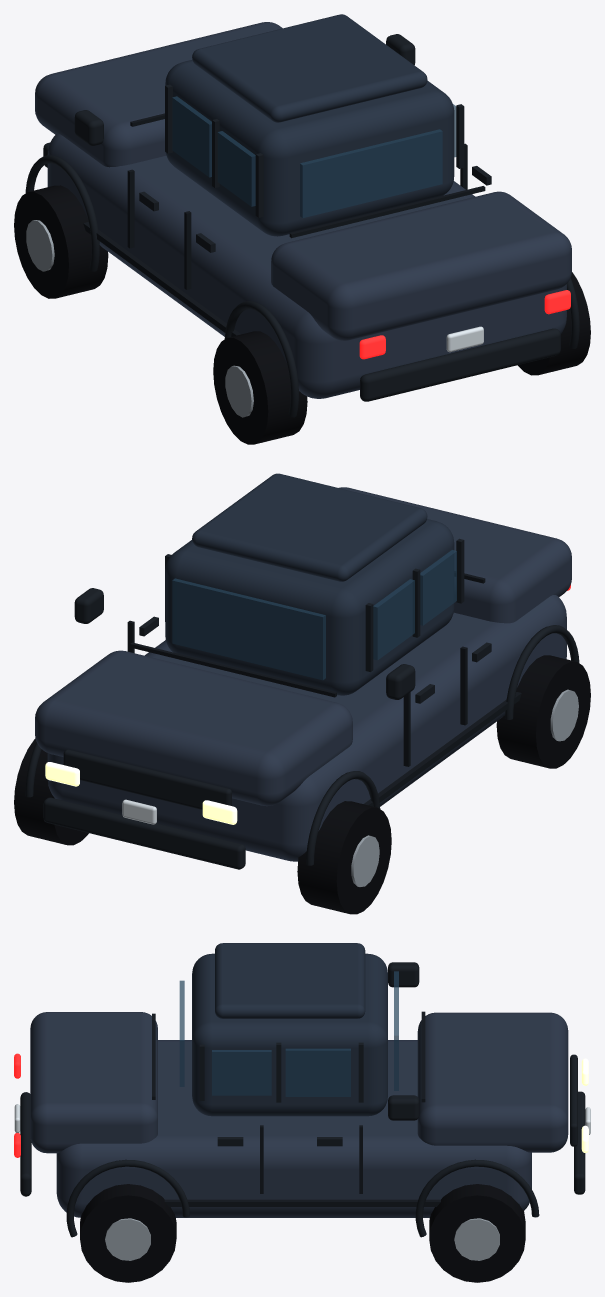
The model's file is passenger_car_medium.glb.
The picture shows the model from 3 angles, top to bottom: view 1: azimuth 30°, elevation 25°; view 2: azimuth 150°, elevation 25°; view 3: azimuth 270°, elevation 25°; orthographic projection. The views are drawn at different scales.
Parts seen in each view (by area): view 1: passenger_car_medium_rounded_sedan_lower_body_panel, passenger_car_medium_rounded_passenger_cabin_body_panel, passenger_car_medium_rear_trunk_deck_body_panel_with_soft_be, passenger_car_medium_subtle_roof_panel_bevel, passenger_car_medium_front_hood_body_panel_with_soft_bevel, passenger_car_medium_rear_window_glass, passenger_car_medium_rear_left_wheel_tire, passenger_car_medium_front_left_wheel_tire, passenger_car_medium_rear_bumper_dark_trim, passenger_car_medium_left_front_door_window_glass, passenger_car_medium_left_rear_door_window_glass, passenger_car_medium_rear_right_wheel_tire (+12 smaller); view 2: passenger_car_medium_rounded_passenger_cabin_body_panel, passenger_car_medium_front_hood_body_panel_with_soft_bevel, passenger_car_medium_rounded_sedan_lower_body_panel, passenger_car_medium_subtle_roof_panel_bevel, passenger_car_medium_front_windshield_glass, passenger_car_medium_rear_trunk_deck_body_panel_with_soft_be, passenger_car_medium_front_left_wheel_tire, passenger_car_medium_rear_left_wheel_tire, passenger_car_medium_front_lower_air_intake_body_panel_break, passenger_car_medium_front_grille_dark_trim, passenger_car_medium_front_right_wheel_tire, passenger_car_medium_left_front_door_window_glass (+16 smaller); view 3: passenger_car_medium_rounded_sedan_lower_body_panel, passenger_car_medium_rounded_passenger_cabin_body_panel, passenger_car_medium_front_hood_body_panel_with_soft_bevel, passenger_car_medium_rear_trunk_deck_body_panel_with_soft_be, passenger_car_medium_subtle_roof_panel_bevel, passenger_car_medium_front_right_wheel_tire, passenger_car_medium_rear_right_wheel_tire, passenger_car_medium_right_front_door_window_glass, passenger_car_medium_right_rear_door_window_glass, passenger_car_medium_right_lower_rocker_body_panel_break, passenger_car_medium_rear_right_wheel_outer_hub, passenger_car_medium_front_right_wheel_outer_hub (+10 smaller).
Part boxes in pixels (<box>): passenger_car_medium_rounded_sedan_lower_body_panel: <box>47,133,566,398</box>; passenger_car_medium_rounded_passenger_cabin_body_panel: <box>165,60,454,236</box>; passenger_car_medium_rear_trunk_deck_body_panel_with_soft_be: <box>271,191,571,340</box>; passenger_car_medium_subtle_roof_panel_bevel: <box>192,14,427,122</box>; passenger_car_medium_front_hood_body_panel_with_soft_bevel: <box>35,22,282,167</box>; passenger_car_medium_rear_window_glass: <box>300,129,442,217</box>; passenger_car_medium_rear_left_wheel_tire: <box>213,331,307,444</box>; passenger_car_medium_front_left_wheel_tire: <box>14,185,108,298</box>; passenger_car_medium_rear_bumper_dark_trim: <box>360,328,560,401</box>; passenger_car_medium_left_front_door_window_glass: <box>172,96,211,177</box>; passenger_car_medium_left_rear_door_window_glass: <box>217,131,255,206</box>; passenger_car_medium_rear_right_wheel_tire: <box>518,272,590,375</box>; passenger_car_medium_rounded_passenger_cabin_body_panel: <box>165,519,454,695</box>; passenger_car_medium_front_hood_body_panel_with_soft_bevel: <box>35,650,352,806</box>; passenger_car_medium_rounded_sedan_lower_body_panel: <box>47,595,566,861</box>; passenger_car_medium_subtle_roof_panel_bevel: <box>192,473,427,581</box>; passenger_car_medium_front_windshield_glass: <box>172,578,325,680</box>; passenger_car_medium_rear_trunk_deck_body_panel_with_soft_be: <box>339,487,571,623</box>; passenger_car_medium_front_left_wheel_tire: <box>297,801,391,914</box>; passenger_car_medium_rear_left_wheel_tire: <box>496,655,590,768</box>; passenger_car_medium_front_lower_air_intake_body_panel_break: <box>43,797,245,869</box>; passenger_car_medium_front_grille_dark_trim: <box>63,749,231,809</box>; passenger_car_medium_front_right_wheel_tire: <box>14,738,88,845</box>; passenger_car_medium_left_front_door_window_glass: <box>373,579,414,660</box>; passenger_car_medium_rounded_sedan_lower_body_panel: <box>56,1040,531,1217</box>; passenger_car_medium_rounded_passenger_cabin_body_panel: <box>192,953,387,1116</box>; passenger_car_medium_front_hood_body_panel_with_soft_bevel: <box>417,1012,568,1152</box>; passenger_car_medium_rear_trunk_deck_body_panel_with_soft_be: <box>30,1012,157,1153</box>; passenger_car_medium_subtle_roof_panel_bevel: <box>215,943,365,1018</box>; passenger_car_medium_front_right_wheel_tire: <box>429,1184,525,1282</box>; passenger_car_medium_rear_right_wheel_tire: <box>80,1184,176,1282</box>; passenger_car_medium_right_front_door_window_glass: <box>285,1048,350,1096</box>; passenger_car_medium_right_rear_door_window_glass: <box>212,1050,271,1095</box>; passenger_car_medium_right_lower_rocker_body_panel_break: <box>164,1199,440,1206</box>; passenger_car_medium_rear_right_wheel_outer_hub: <box>105,1218,150,1260</box>; passenger_car_medium_front_right_wheel_outer_hub: <box>454,1218,499,1260</box>.
Size of the model in its own units: 2.33 by 1.87 by 4.06.
